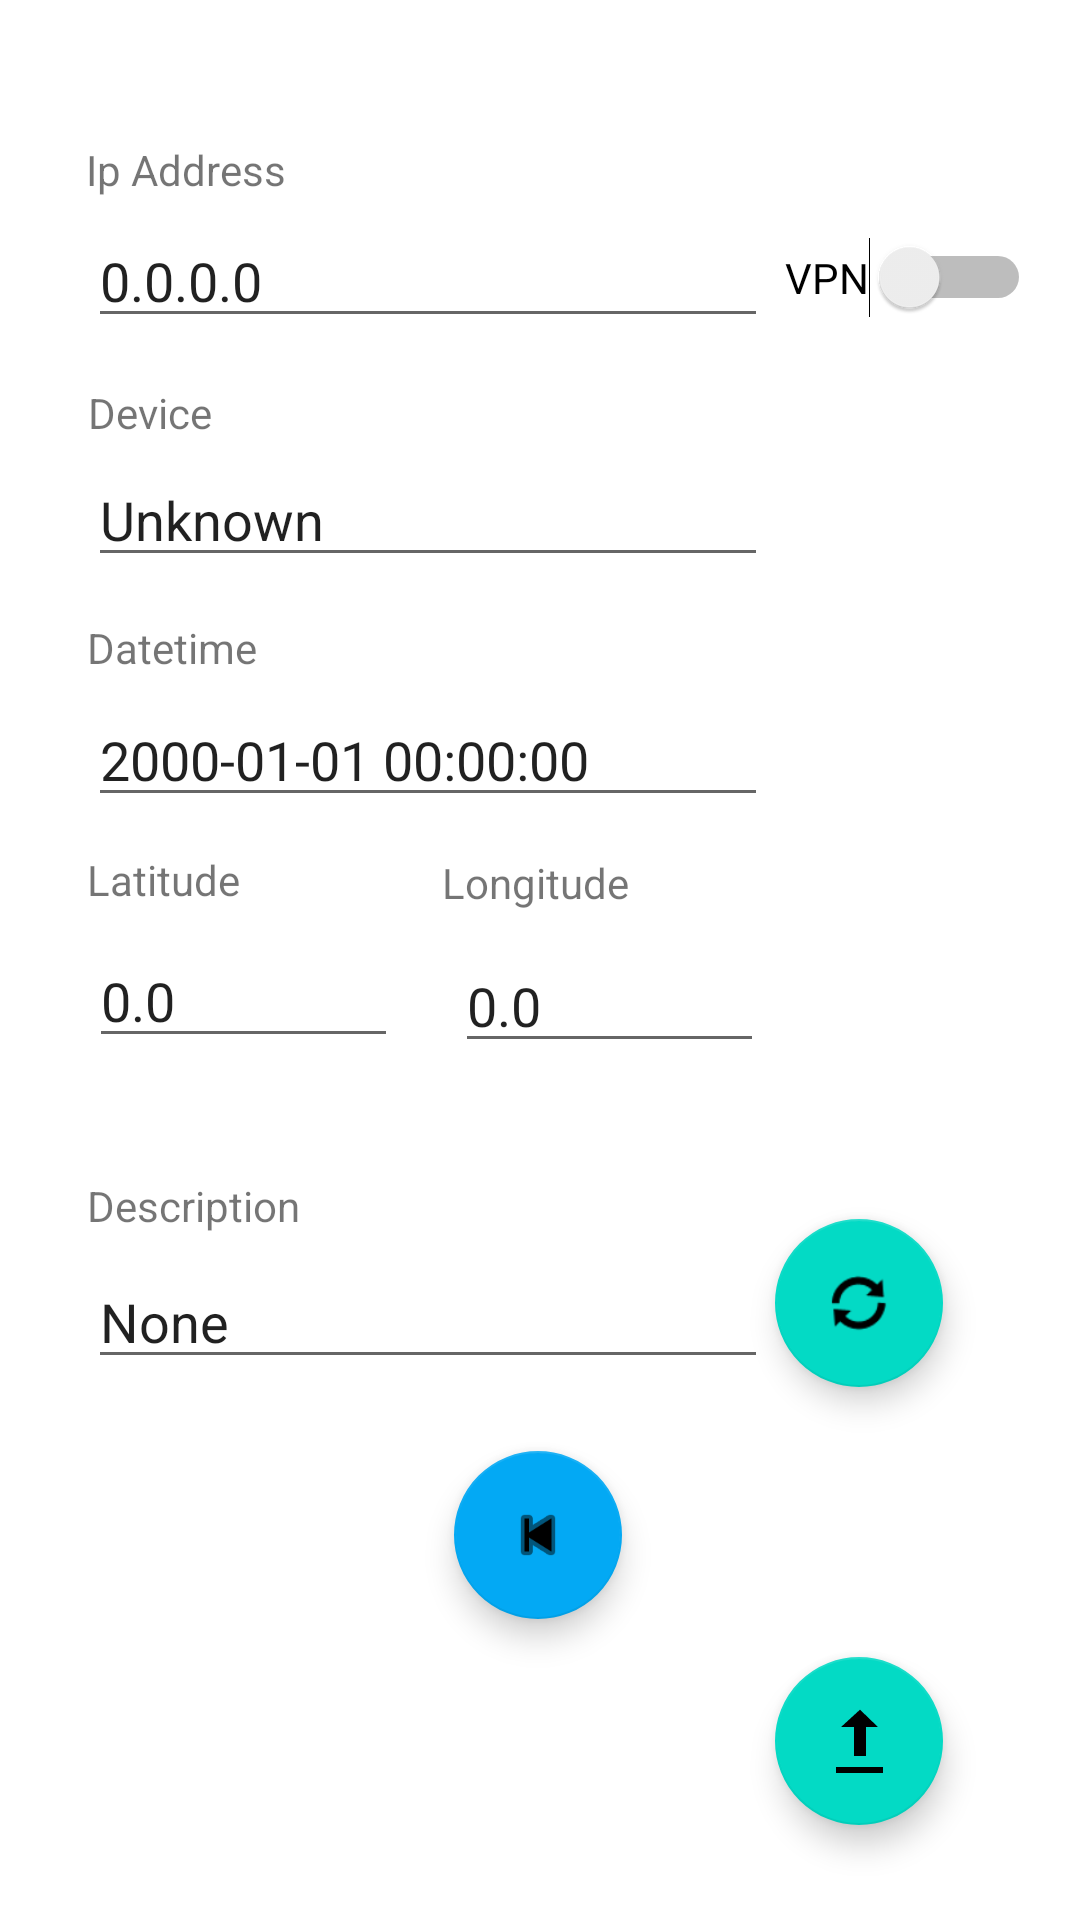

Icons on this 1080px x 1920px Android screen, each with its box as (x1, y1, x2, y2):
popup sync: (775, 1219, 943, 1387)
previous: (454, 1451, 622, 1619)
upload done: (775, 1657, 943, 1825)
